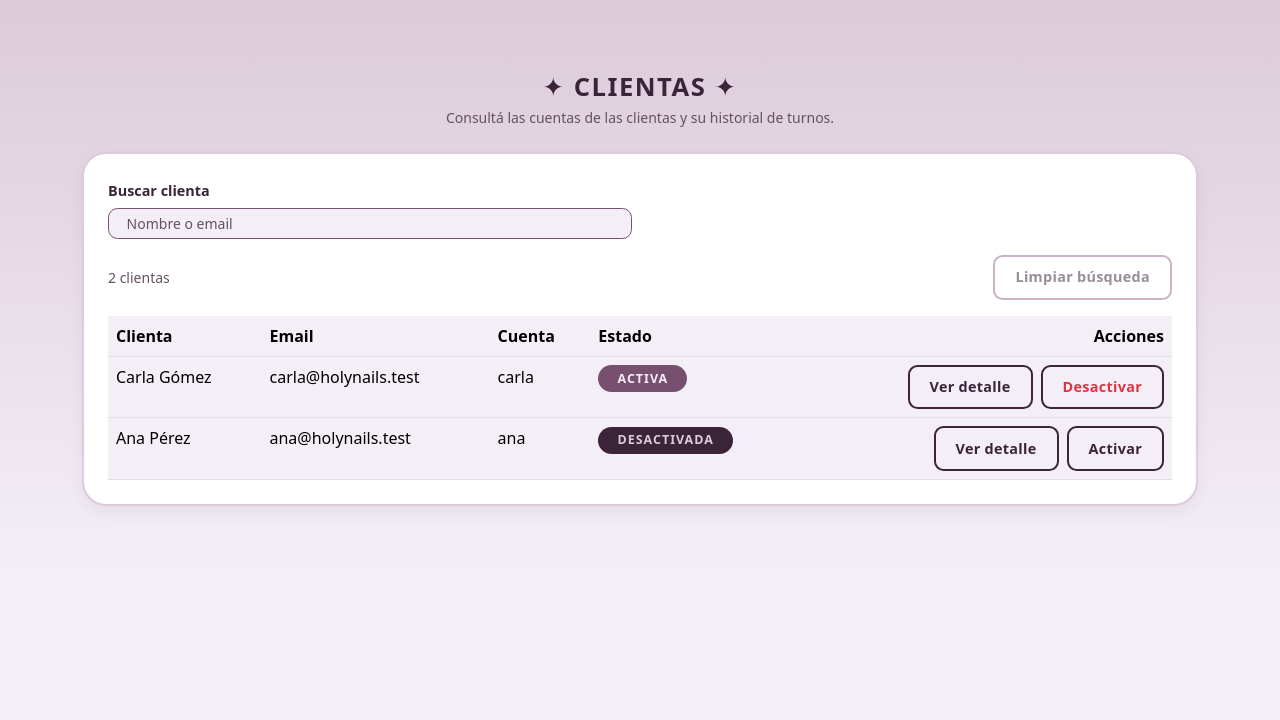
Test: AdminClientas — búsqueda › busca por email
Expected: the table is shown, [108,316,1172,480]
Type "carla@holynails.test" into the search field labelled "Buscar clienta" at point(370, 223), box [108,208,632,239]
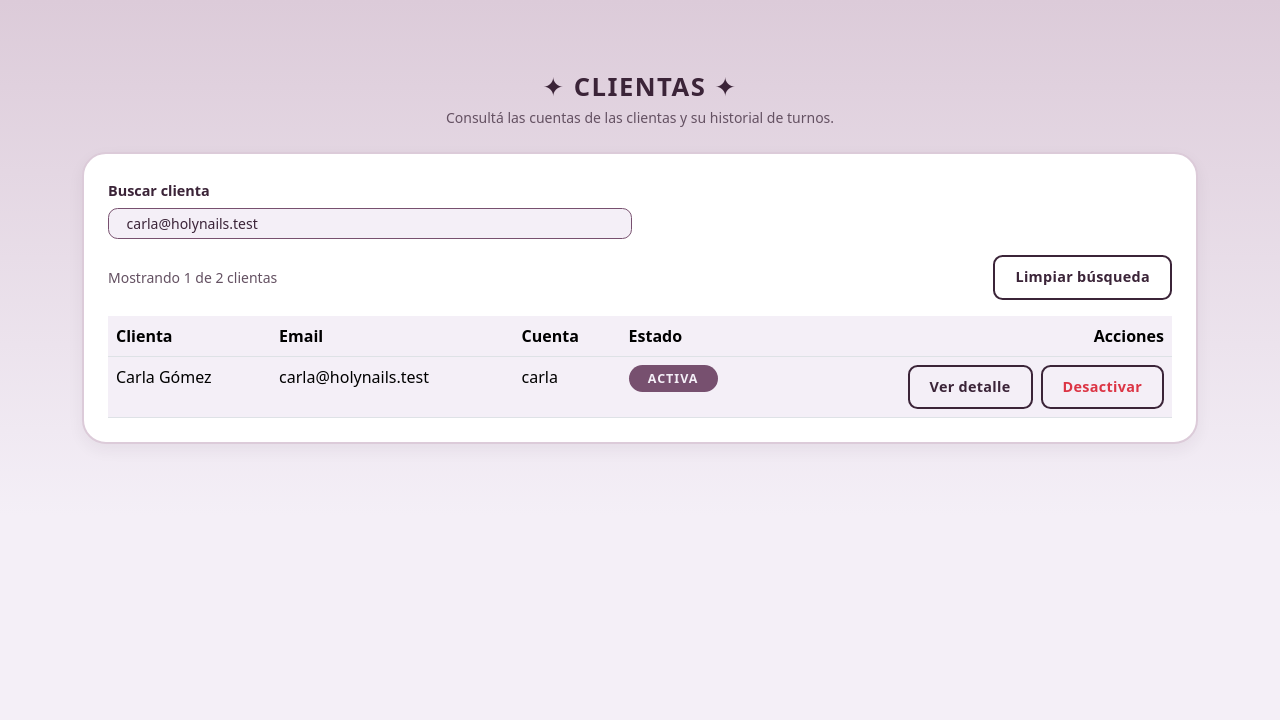
Expected: the text "Carla Gómez" is shown, [108,356,271,418]
Expected: the text "Ana Pérez" is gone
Expected: the text "Mostrando 1 de 2 clientas" is shown, [108,267,277,288]
